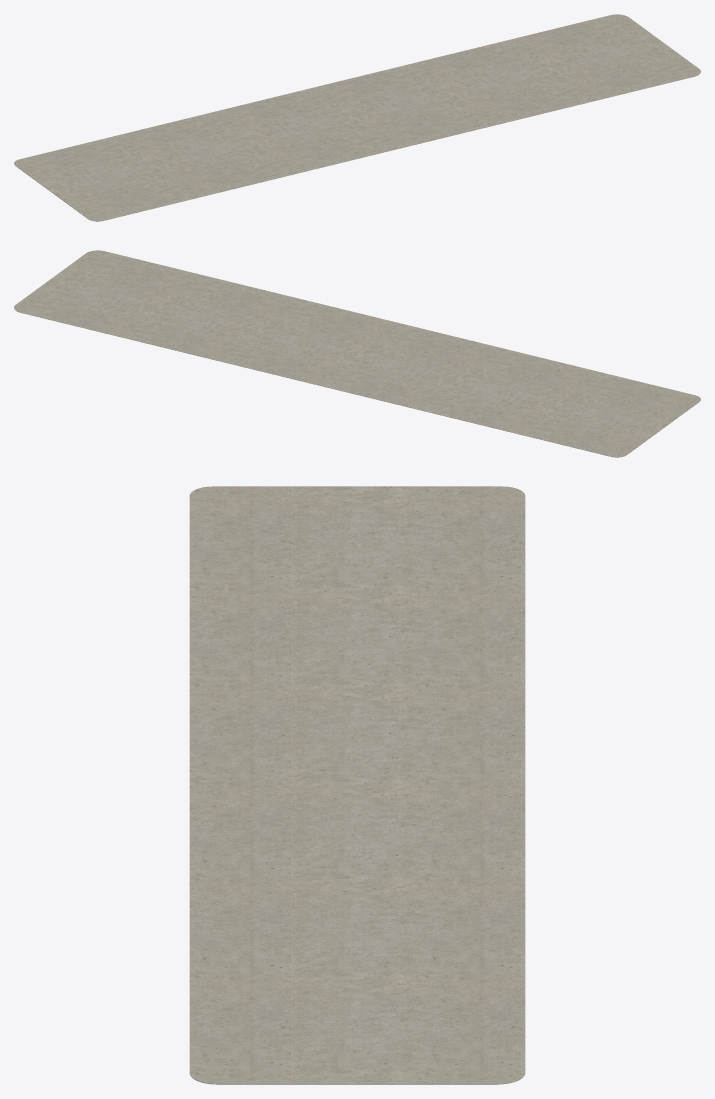
Rendered from Ground04.FBX.
3 views of the same model, one above another, from view 1: azimuth 30°, elevation 25°; view 2: azimuth 150°, elevation 25°; view 3: azimuth 270°, elevation 25° (orthographic). The views are drawn at different scales.
Parts seen in each view (by area): view 1: Object003; view 2: Object003; view 3: Object003.
Boxes of the visible parts, x1,y1,x2,y2 form: Object003: (14, 14, 700, 221); Object003: (14, 250, 700, 457); Object003: (189, 486, 525, 1084).
Size of the model in its own units: 615 by 0.2 by 146.
